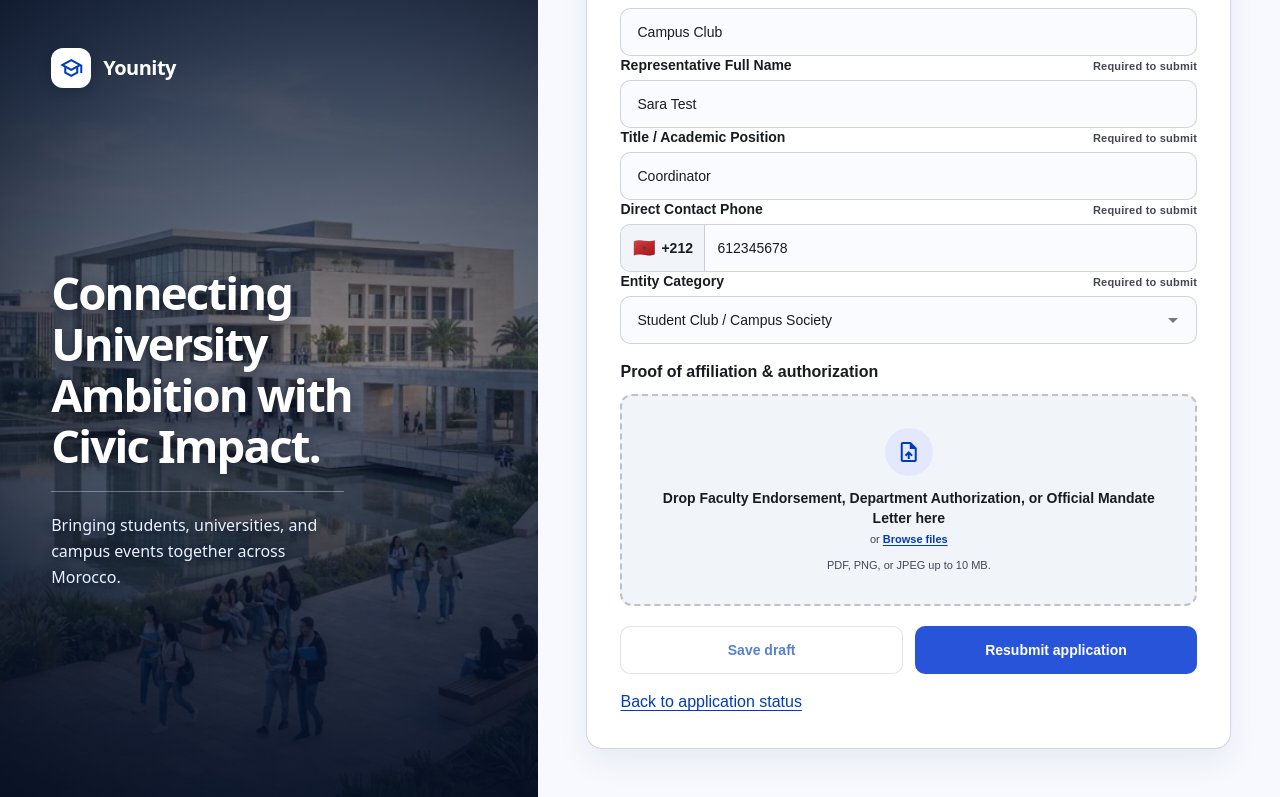
Scenario: organizer submission and corrections › resubmits the saved correction and refreshes the real session
(page scrolled)
Expected: the field labelled "Organization / University Entity Name" is shown, [620,8,1197,56]
Click the button "Resubmit application".
click(1056, 650)  # box [915,626,1197,674]
(page scrolled)
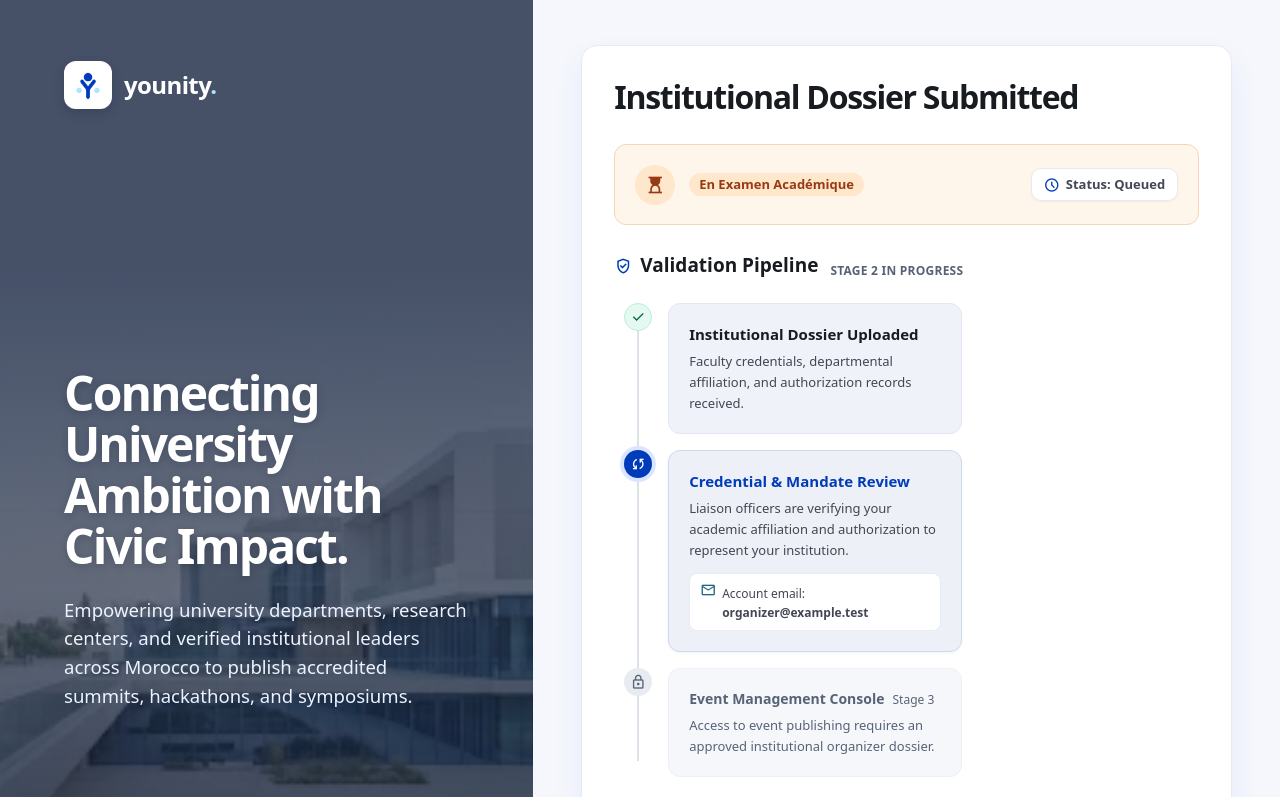
Expected: the heading "Institutional Dossier Submitted" is shown, [614,75,1078,118]
